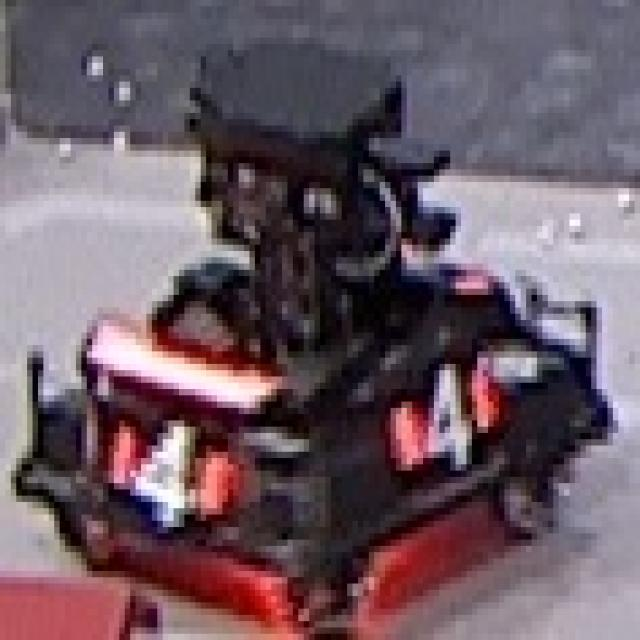R4: (103, 408, 228, 527), (385, 358, 494, 470)
